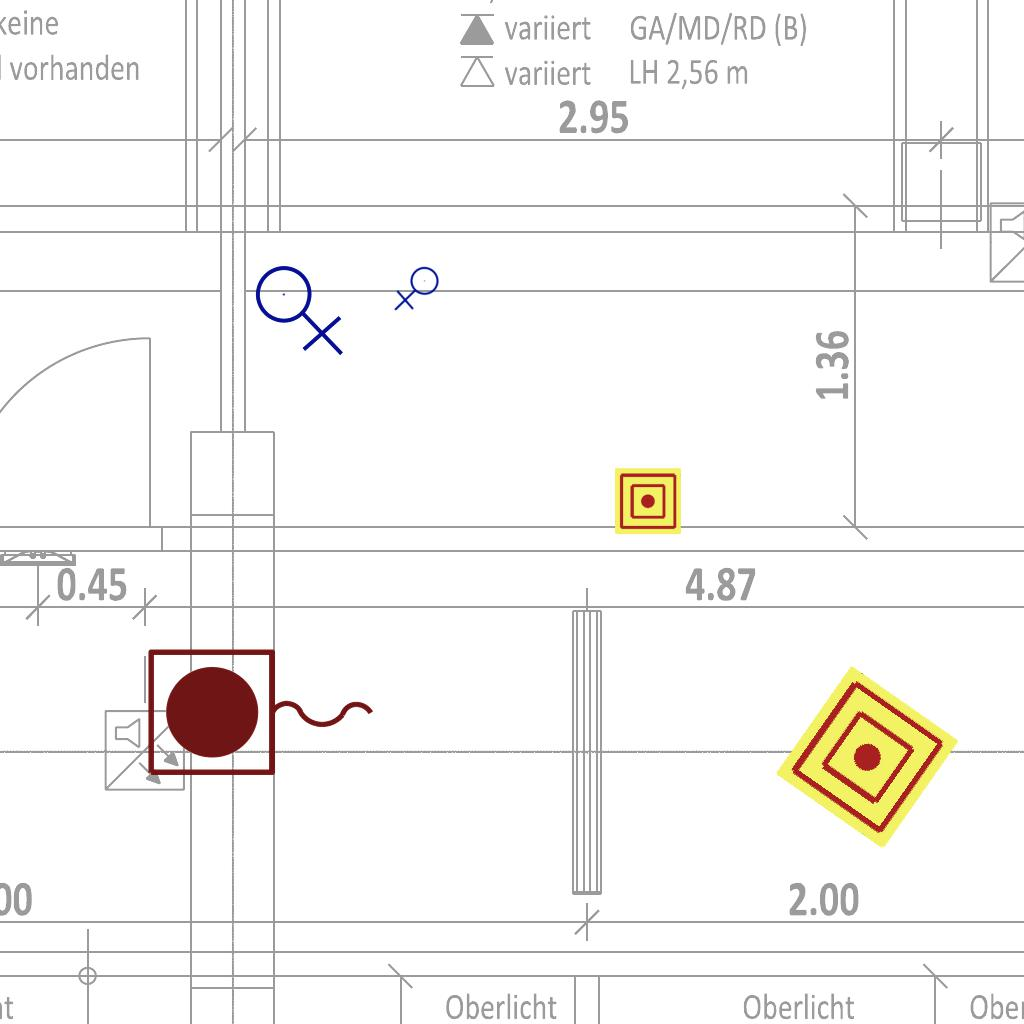Elektroanschluss_allgemein_230V_Geraeteanschlussdose_230V: (254, 257, 348, 356), (394, 266, 443, 313)
NAM-Nichtautomatischer_Melder: (775, 665, 959, 849), (615, 468, 681, 534)
Zugtaster: (140, 642, 384, 786)
